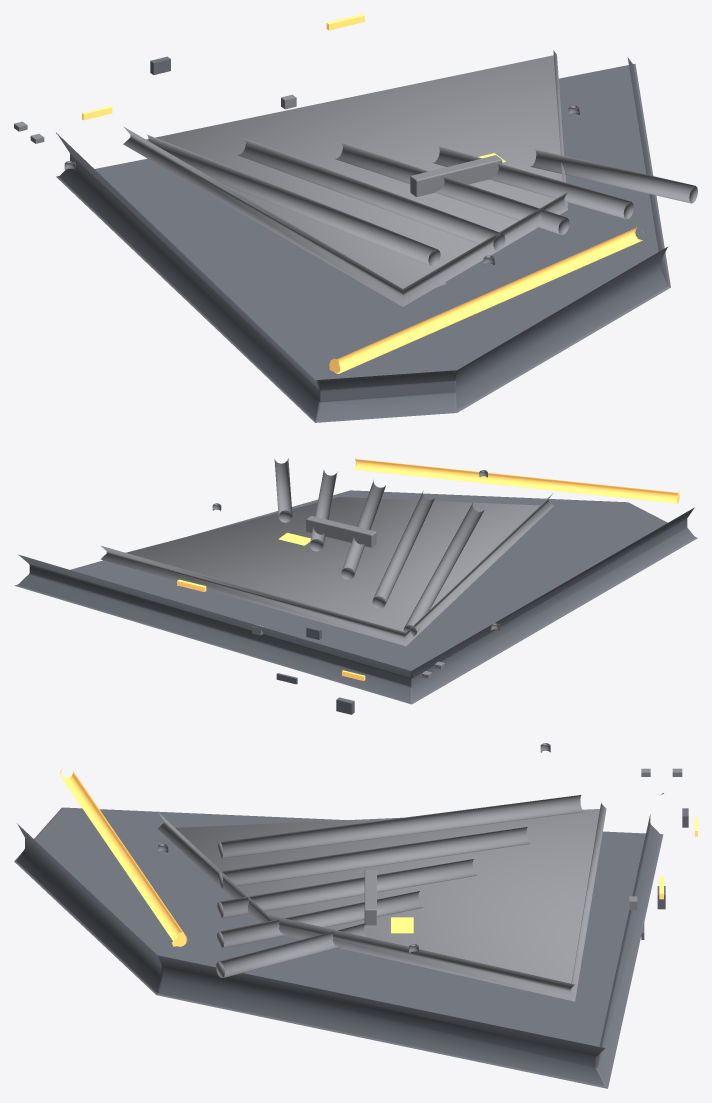
Rendered from fin_wedge.glb.
3 renders of one model, top to bottom at view 1: azimuth 30°, elevation 25°; view 2: azimuth 150°, elevation 25°; view 3: azimuth 270°, elevation 25°, orthographic. The views are drawn at different scales.
Visible parts, largest first — view 1: Wedge_Main, fin_wedge_Material_Mechanical_Merged, Wedge_Edge_Light, DET_radiator_slit; view 2: Wedge_Main, fin_wedge_Material_Mechanical_Merged, Wedge_Edge_Light, DET_radiator_slit; view 3: Wedge_Main, fin_wedge_Material_Mechanical_Merged, Wedge_Edge_Light, DET_radiator_slit.
Part boxes in pixels (left/top/right/bottom): Wedge_Main: left=56, top=57, right=670, bottom=422; fin_wedge_Material_Mechanical_Merged: left=64, top=50, right=697, bottom=306; Wedge_Edge_Light: left=329, top=227, right=642, bottom=373; DET_radiator_slit: left=410, top=155, right=502, bottom=196; Wedge_Main: left=14, top=490, right=697, bottom=704; fin_wedge_Material_Mechanical_Merged: left=100, top=458, right=553, bottom=646; Wedge_Edge_Light: left=353, top=458, right=679, bottom=503; DET_radiator_slit: left=306, top=516, right=376, bottom=547; Wedge_Main: left=14, top=793, right=663, bottom=1088; fin_wedge_Material_Mechanical_Merged: left=157, top=743, right=606, bottom=1001; Wedge_Edge_Light: left=60, top=768, right=187, bottom=946; DET_radiator_slit: left=364, top=870, right=376, bottom=925.
Bounding box in the file's own units: 4.23 × 0.79 × 4.34.
